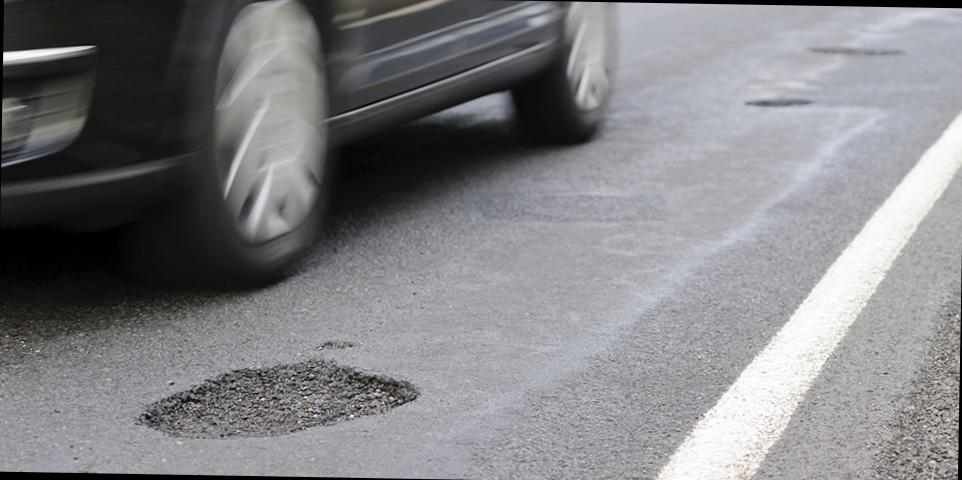pothole: (125, 354, 439, 459), (800, 30, 910, 69), (736, 89, 820, 124)
